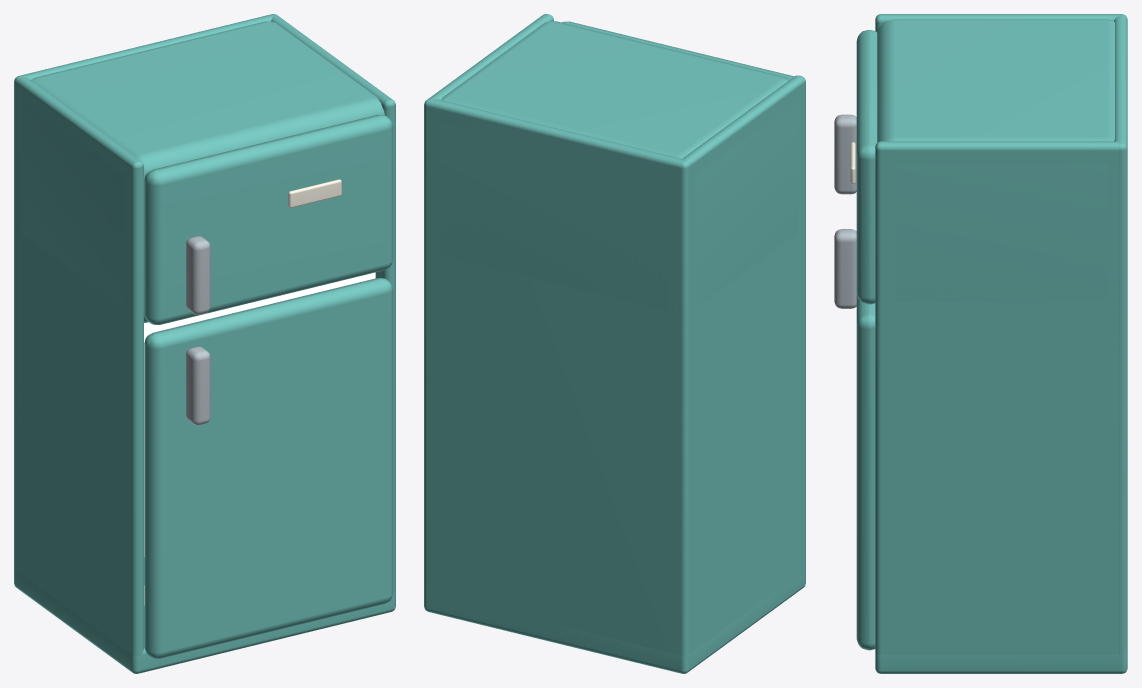
Rendered from kitchenFridge.glb.
The picture shows the model from 3 angles, left to right: view 1: azimuth 30°, elevation 25°; view 2: azimuth 150°, elevation 25°; view 3: azimuth 270°, elevation 25°; orthographic projection. The views are drawn at different scales.
Visible parts, largest first — view 1: Fridge door, Retro fridge side, Retro freezer housing, Fridge door.001, Retro fridge base, Retro fridge back, Retro fridge side.001, Fridge door handle, Chrome fridge handle, Fridge badge, Fridge interior LED, Fridge interior floor ceiling.001; view 2: Retro fridge back, Retro freezer housing, Retro fridge side, Retro fridge base, Retro fridge side.001, Fridge door.001; view 3: Retro fridge side.001, Retro freezer housing, Fridge door, Retro fridge back, Fridge door.001, Retro fridge base, Fridge door handle, Chrome fridge handle, Retro fridge side.
Part boxes in pixels (<box>): Fridge door: <box>144,278,393,658</box>; Retro fridge side: <box>15,76,143,673</box>; Retro freezer housing: <box>21,21,384,322</box>; Fridge door.001: <box>144,114,393,324</box>; Retro fridge base: <box>15,557,395,673</box>; Retro fridge back: <box>14,14,276,587</box>; Retro fridge side.001: <box>271,14,395,611</box>; Fridge door handle: <box>186,346,210,425</box>; Chrome fridge handle: <box>186,236,210,314</box>; Fridge badge: <box>288,179,341,207</box>; Fridge interior LED: <box>148,279,361,334</box>; Fridge interior floor ceiling.001: <box>144,273,372,331</box>; Retro fridge back: <box>424,98,689,673</box>; Retro freezer housing: <box>439,21,798,310</box>; Retro fridge side: <box>678,75,805,673</box>; Retro fridge base: <box>424,568,805,673</box>; Retro fridge side.001: <box>425,14,553,611</box>; Fridge door.001: <box>562,21,794,79</box>; Retro fridge side.001: <box>875,141,1126,654</box>; Retro freezer housing: <box>877,19,1114,301</box>; Fridge door: <box>856,294,875,650</box>; Retro fridge back: <box>1114,14,1127,673</box>; Fridge door.001: <box>856,30,877,304</box>; Retro fridge base: <box>875,653,1127,673</box>; Fridge door handle: <box>834,229,856,308</box>; Chrome fridge handle: <box>834,114,856,194</box>; Retro fridge side: <box>875,14,1125,31</box>.
Bounding box in the file's own units: 1.1 × 2.05 × 1.02.
